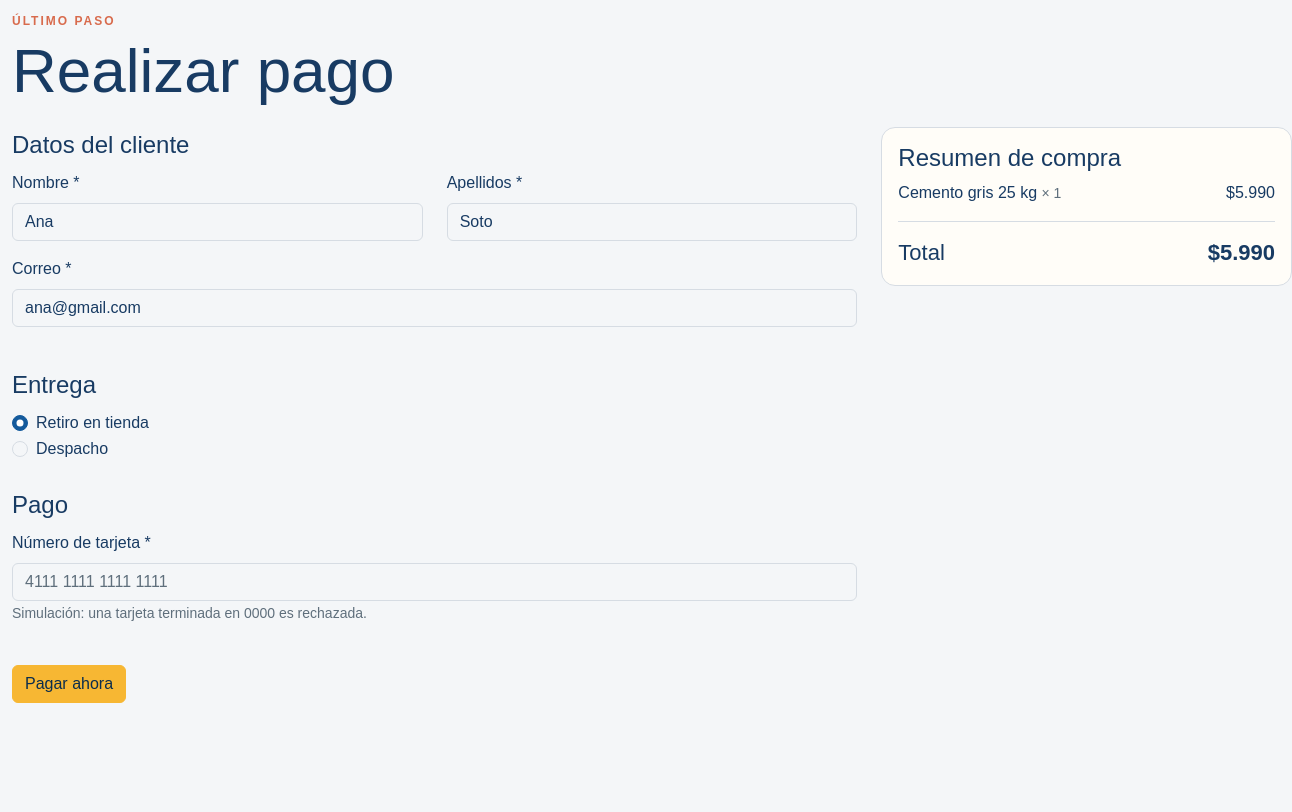
Scenario: CheckoutContainer con la pasarela simulada (mock) › envía el número de tarjeta a la pasarela y confirma si responde ok
Step 1. Type "4111111111111111" into the field labelled "Número de tarjeta *" → (435, 582), box [12, 563, 857, 601]
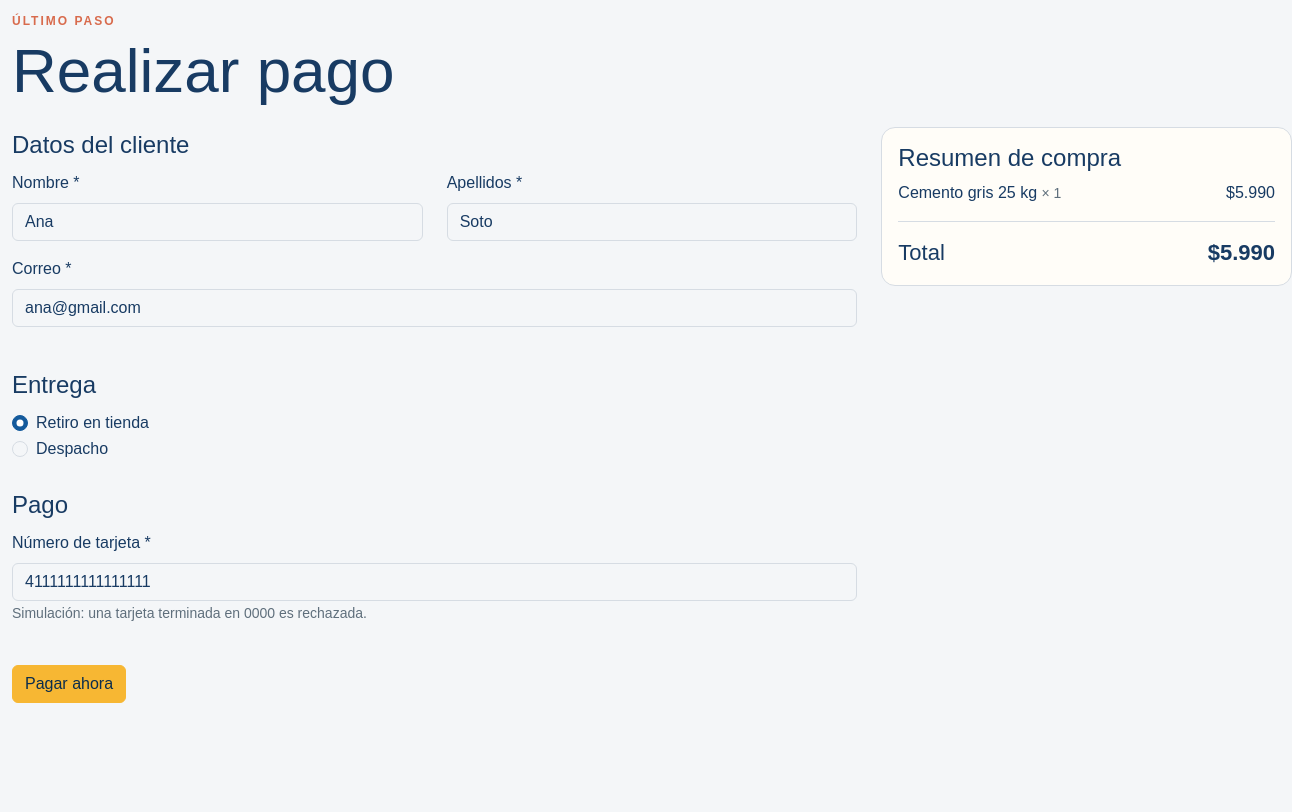
Step 2. Click the button "Pagar ahora" → (69, 684), box [12, 665, 126, 703]
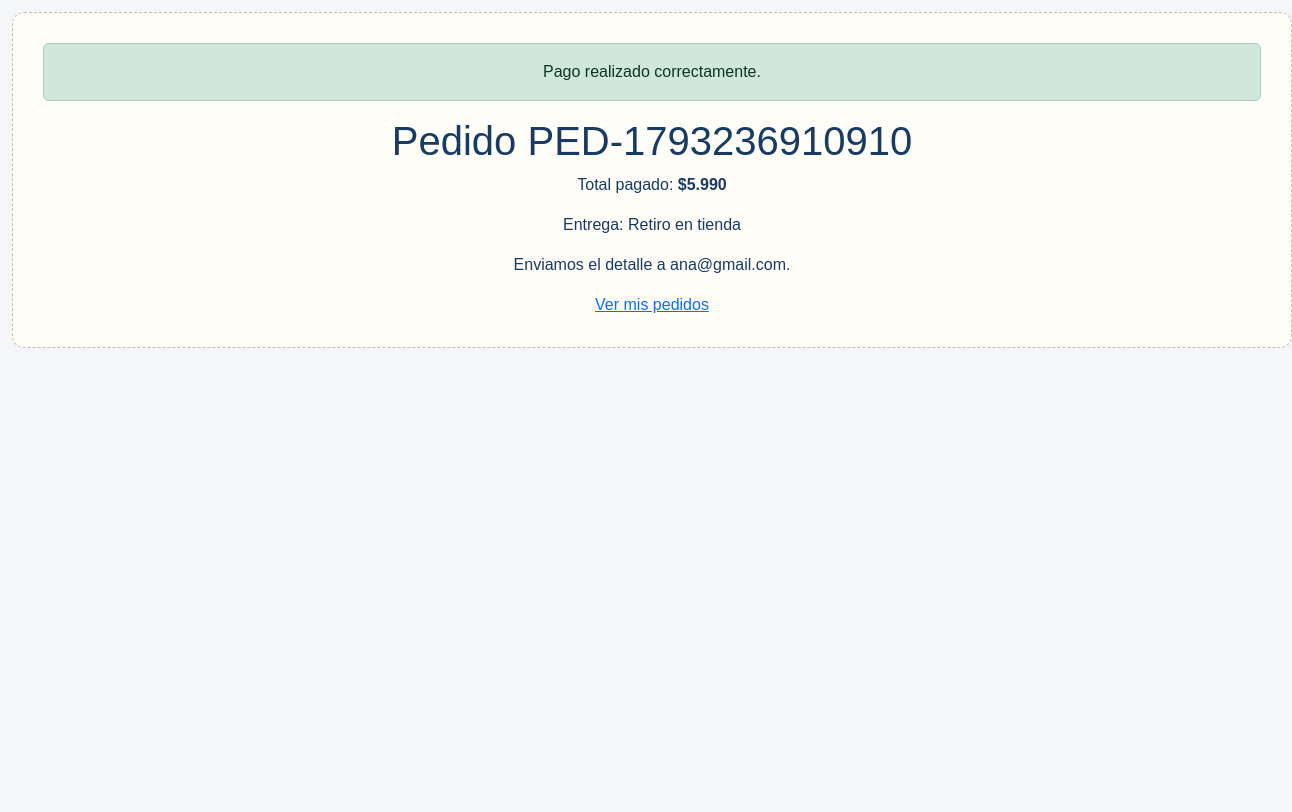
Now the text "Pago realizado correctamente." is shown, box [43, 43, 1261, 101]
